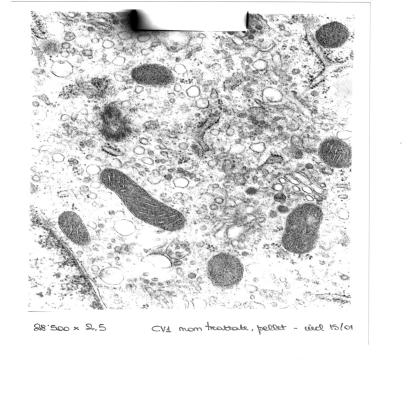mitochondria: (99, 170, 187, 232), (281, 203, 321, 255), (205, 252, 246, 289), (57, 211, 96, 246), (128, 63, 175, 87), (318, 137, 352, 169), (314, 22, 350, 50)
